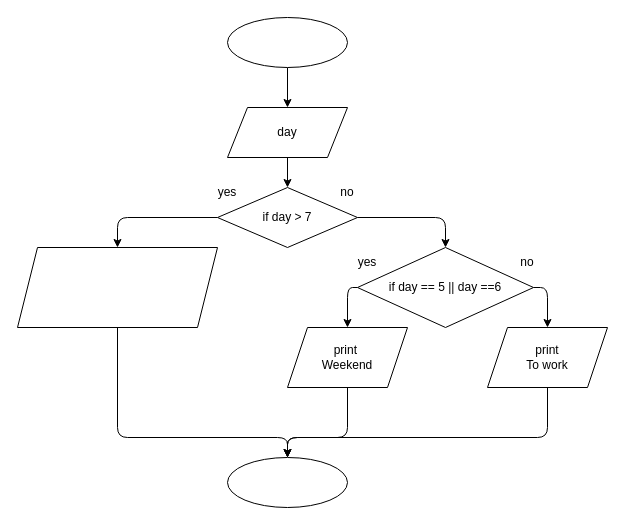
This 625x525 diagram has some shape labels left out. The shapes that lost their labels are listed below. From the top down, each one's centre as x and y in pixels, then its label:
At point (287, 42): "start".
At point (117, 287): "print there is no such day in a week".
At point (287, 482): "end".
